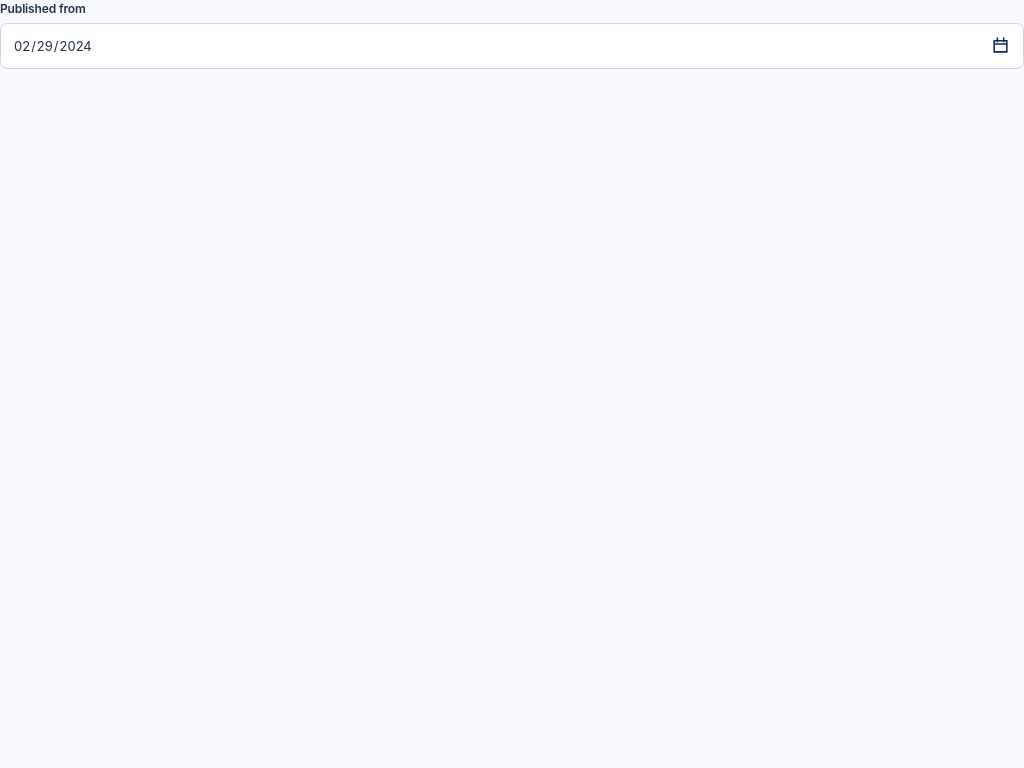
Test: calendar Escape stops before outer React and document keyboard handlers
The width and height of the screenshot is (1024, 768).
Click the button named "Choose date for Published from".
click(1000, 46)  # box [982,29,1018,63]
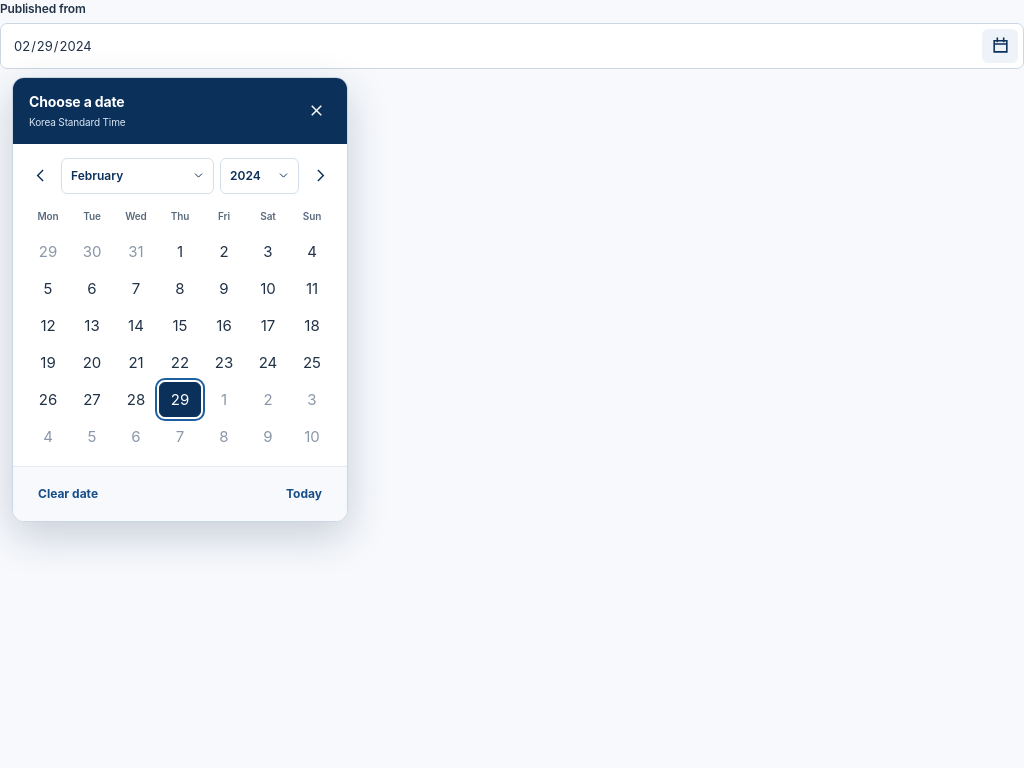
Press Escape in the 2nd button "29", box [159,382,201,417]
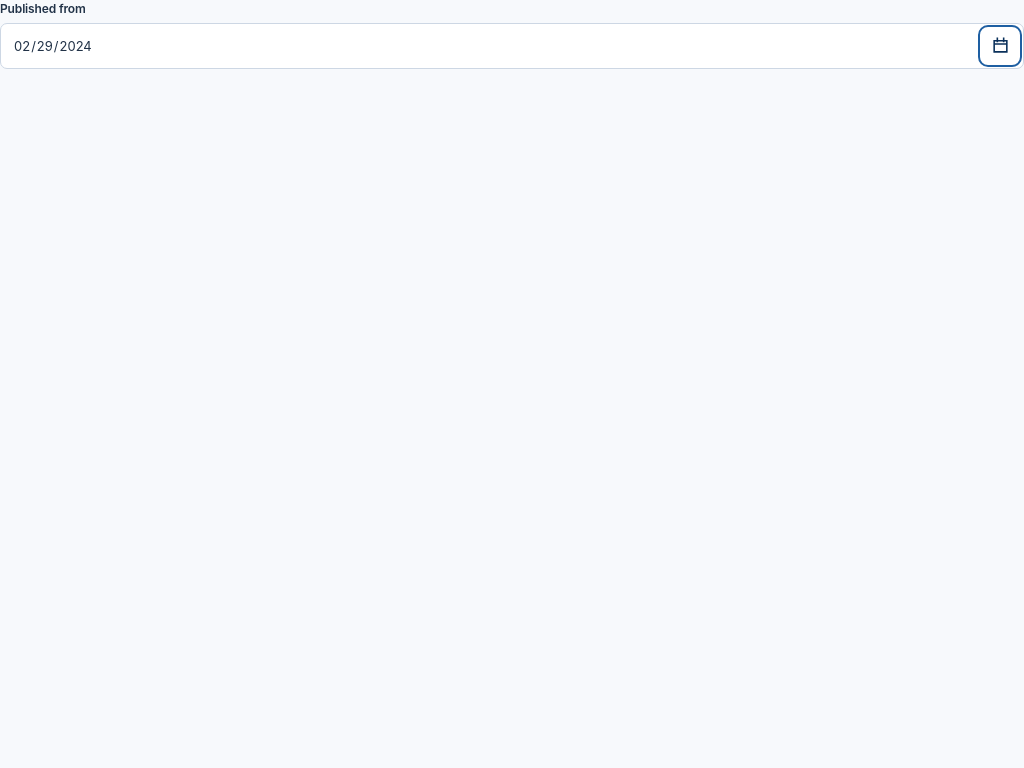
Check: the dialog is gone
